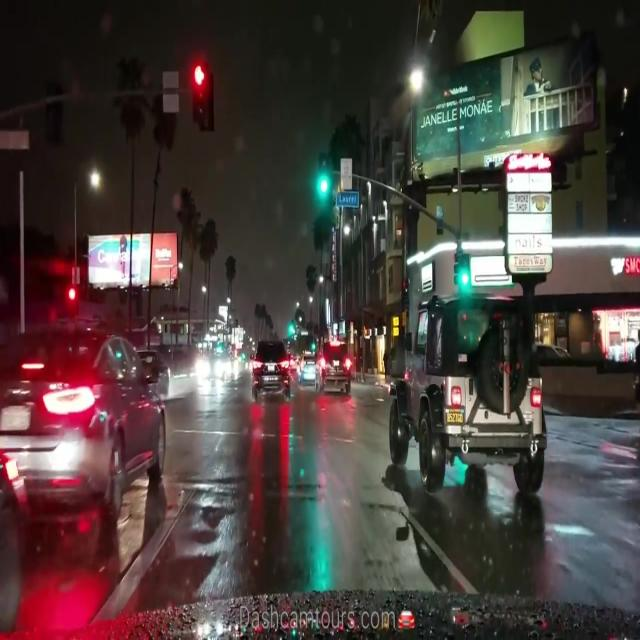Car: (2, 329, 164, 527), (386, 303, 543, 497), (250, 338, 289, 401), (316, 340, 349, 393)
